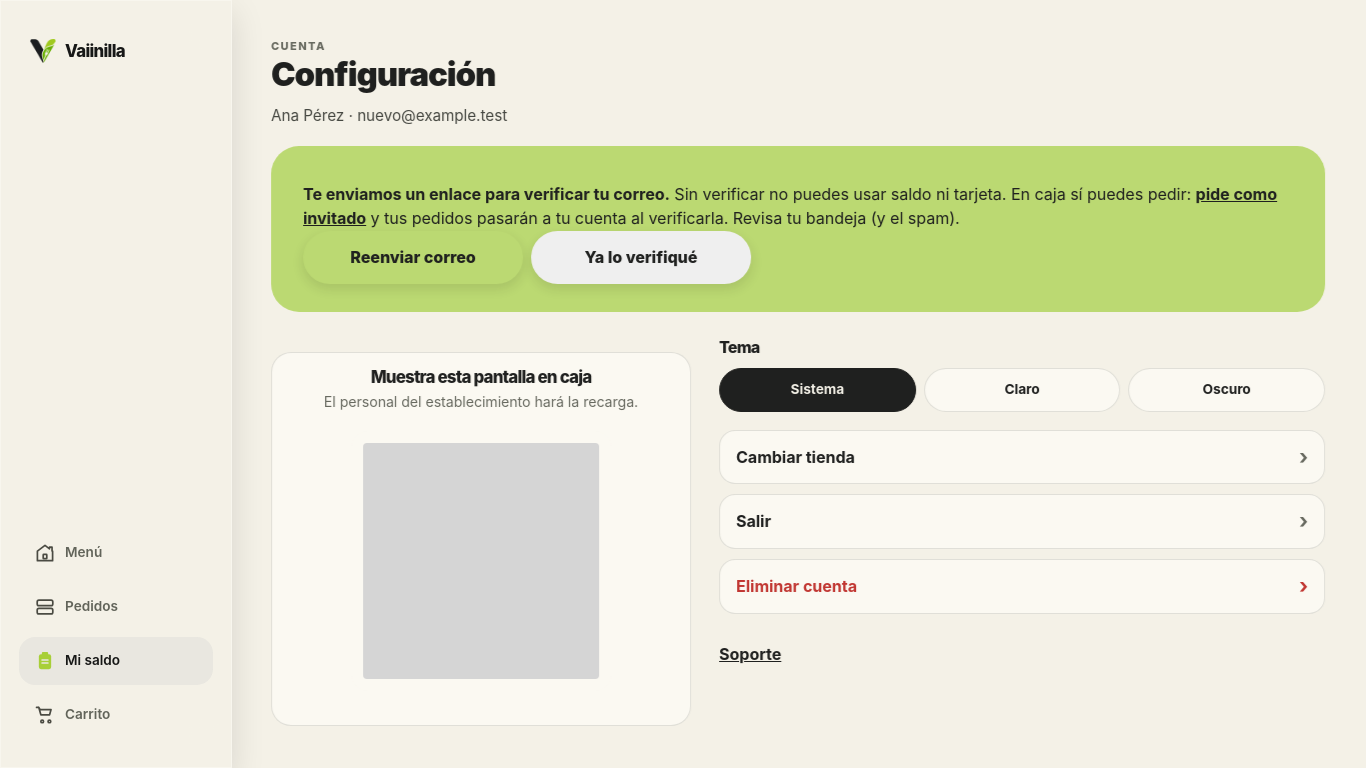
AccountPage › «Ya lo verifiqué» sin verificar se anuncia como alerta (QA-043)
The width and height of the screenshot is (1366, 768).
Click the button "Ya lo verifiqué" at (642, 258), box [532,231,752,284]
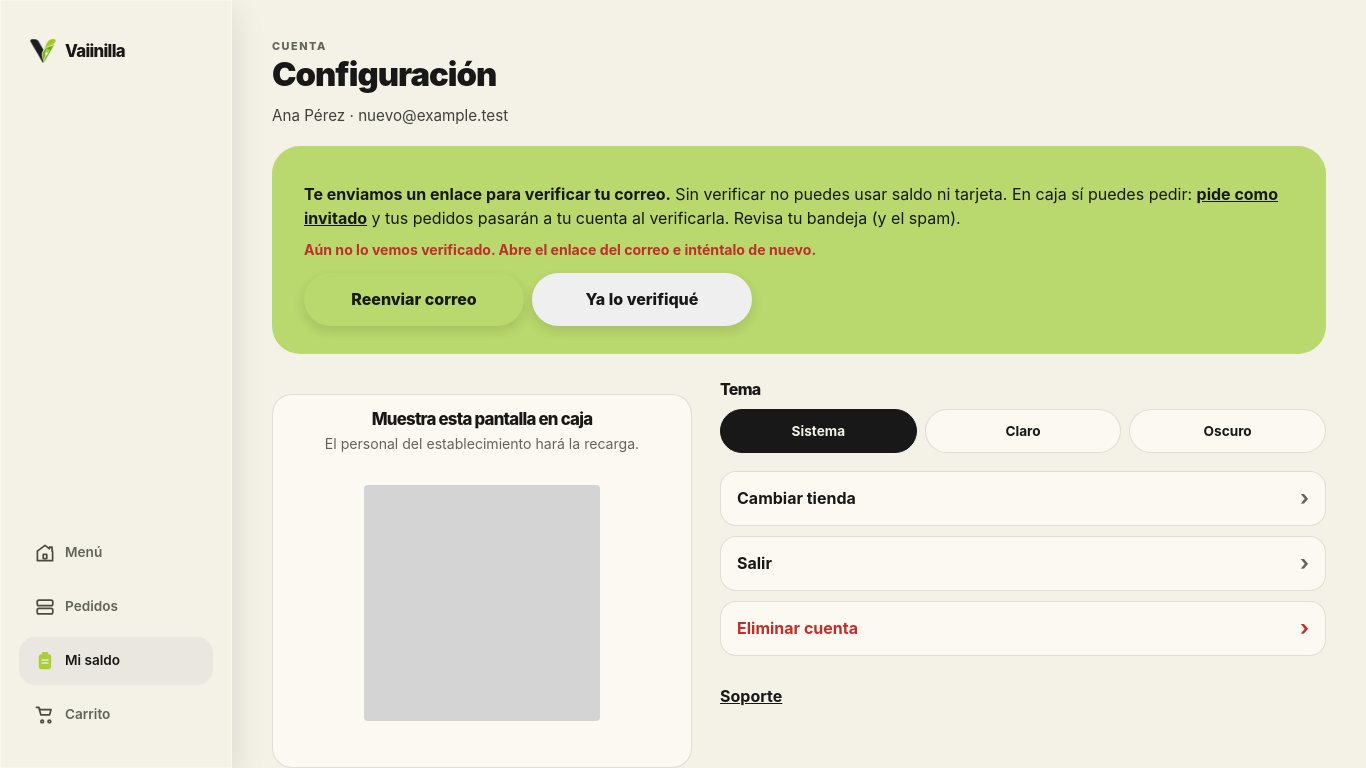
Now the message shows "Aún no lo vemos verificado", box [304,241,816,258]
